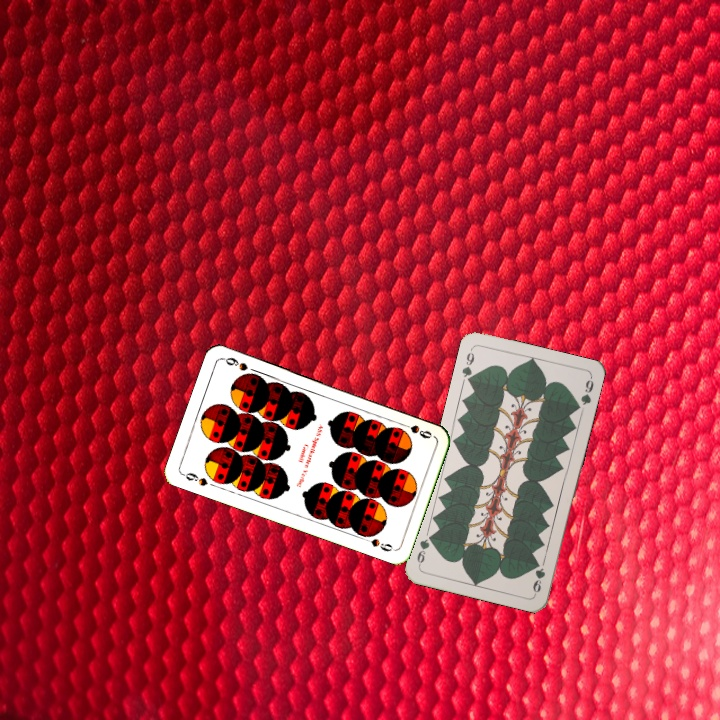G9: (458, 345, 477, 386), (529, 564, 548, 597)
S9: (396, 419, 435, 441), (178, 468, 210, 489)
